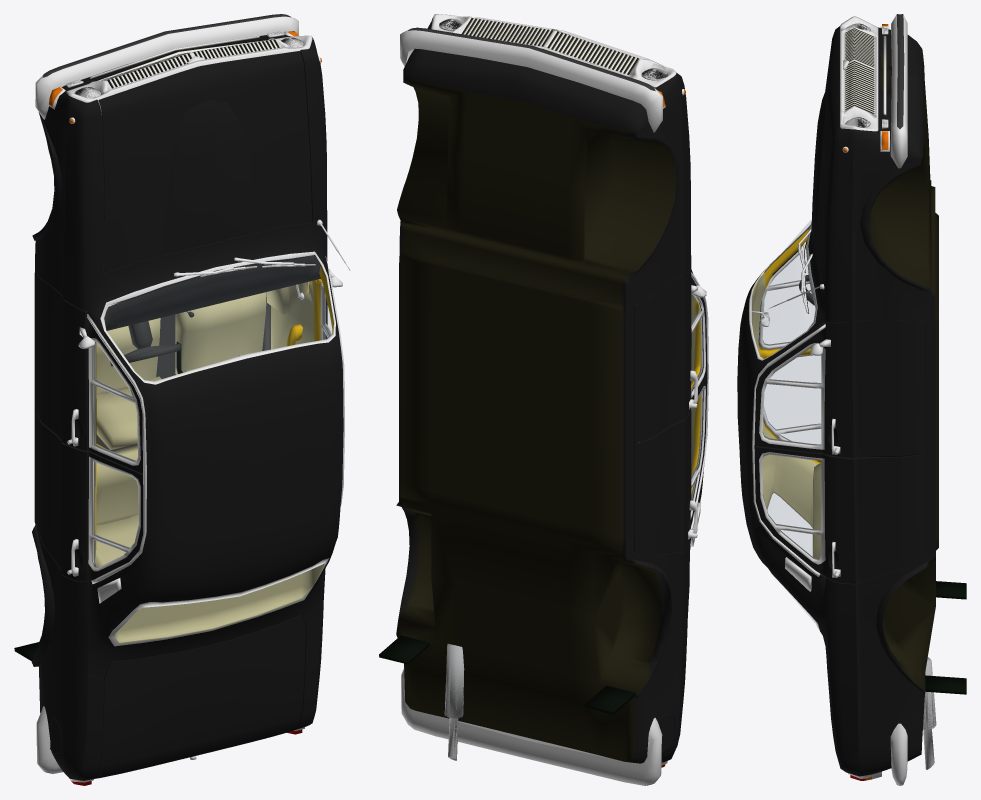
Rendered from Volga.obj.
3 views of the same model, side by side, from view 1: azimuth 30°, elevation 25°; view 2: azimuth 150°, elevation 25°; view 3: azimuth 270°, elevation 25° (orthographic). The views are drawn at different scales.
Visible parts, largest first — view 1: Bumper_(rear); view 2: Bumper_(rear); view 3: Bumper_(rear).
Boxes of the visible parts, box(x1,y1,x2,y2) form: Bumper_(rear): box(14, 14, 350, 785); Bumper_(rear): box(379, 14, 708, 785); Bumper_(rear): box(737, 14, 966, 785).
Size of the model in its own units: 1.83 by 4.75 by 1.45.
Materials: 16 (16 with a texture image).
